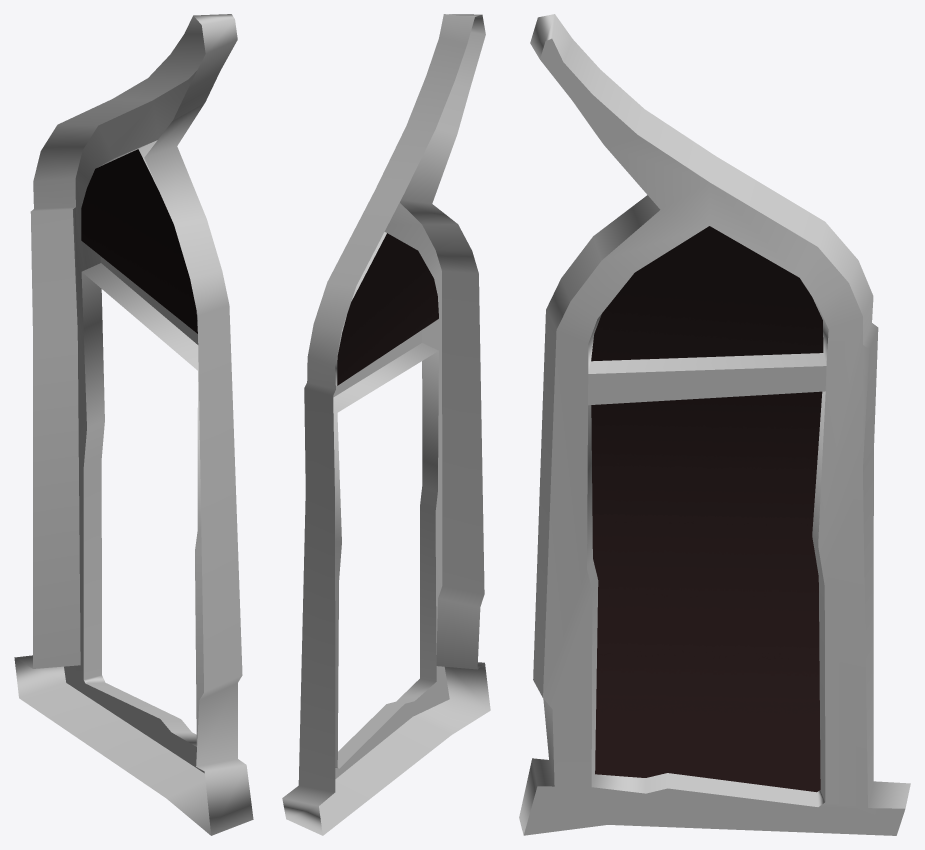
Rendered from lower_city_window_04.fbx.
The picture shows the model from 3 angles, left to right: view 1: azimuth 30°, elevation 25°; view 2: azimuth 150°, elevation 25°; view 3: azimuth 270°, elevation 25°; orthographic projection. The views are drawn at different scales.
Parts seen in each view (by area): view 1: lower_city_window_04; view 2: lower_city_window_04; view 3: lower_city_window_04.
Boxes of the visible parts, x1,y1,x2,y2 form: lower_city_window_04: (14,14,253,835); lower_city_window_04: (282,14,490,835); lower_city_window_04: (519,14,910,835).
Size of the model in its own units: 0.0705 by 1.22 by 0.5381.
